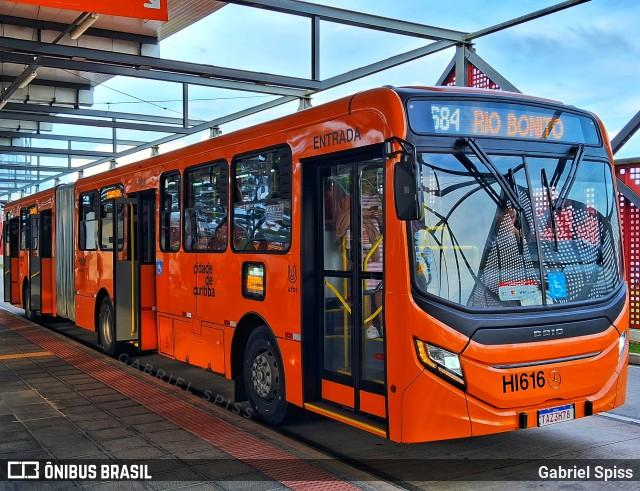RIO BONITO: (467, 105, 568, 142)
